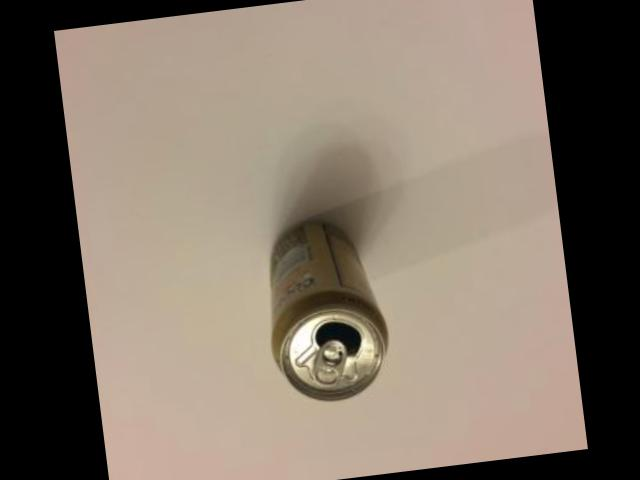metal: (267, 224, 383, 403)
